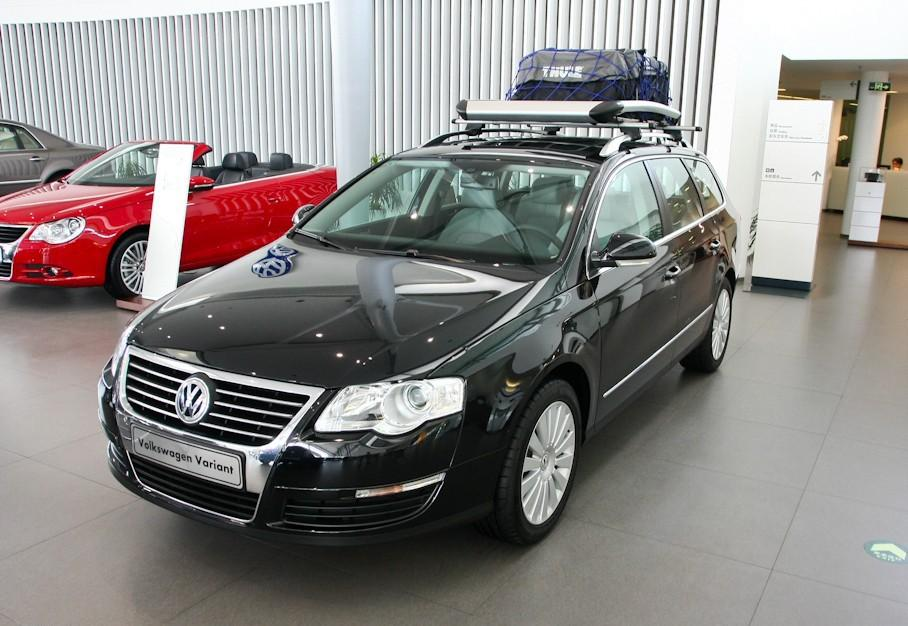Wagon: (96, 136, 745, 551)
